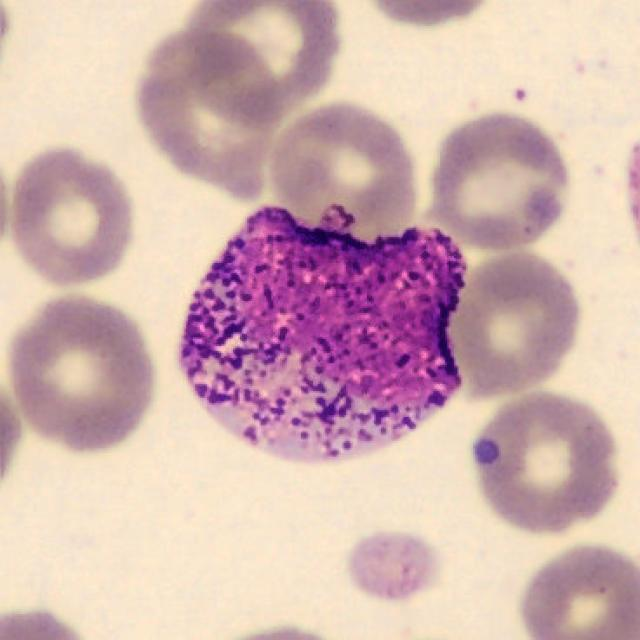Promielocito: (181, 208, 468, 462)
